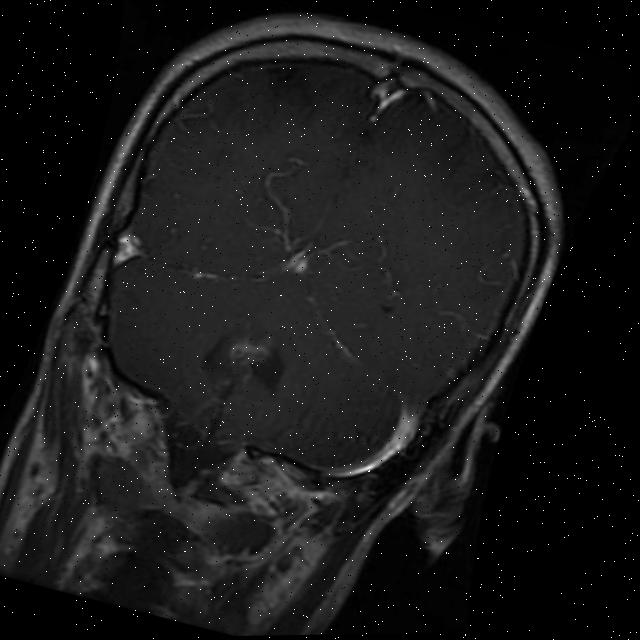Glioma: (195, 319, 298, 402)
